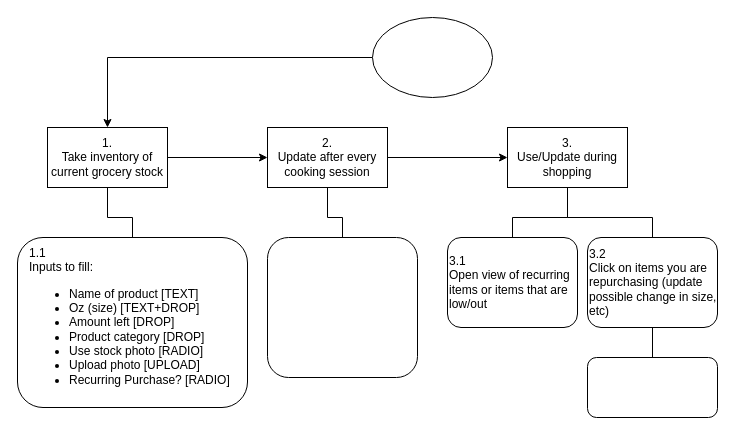
Some shapes in this 735 by 435 pixel diagram are drawn without their labels. Each missing label, with the centre of its shape:
"2.1 Inputs: Ran Out [ICON OR DROP] Quantity [ICON OR DROP]" belongs at [342,307].
"3.2.1 Take picture of your instacart receipt for automatic scanning" belongs at [652,387].
"Create User Account" belongs at [432,57].
